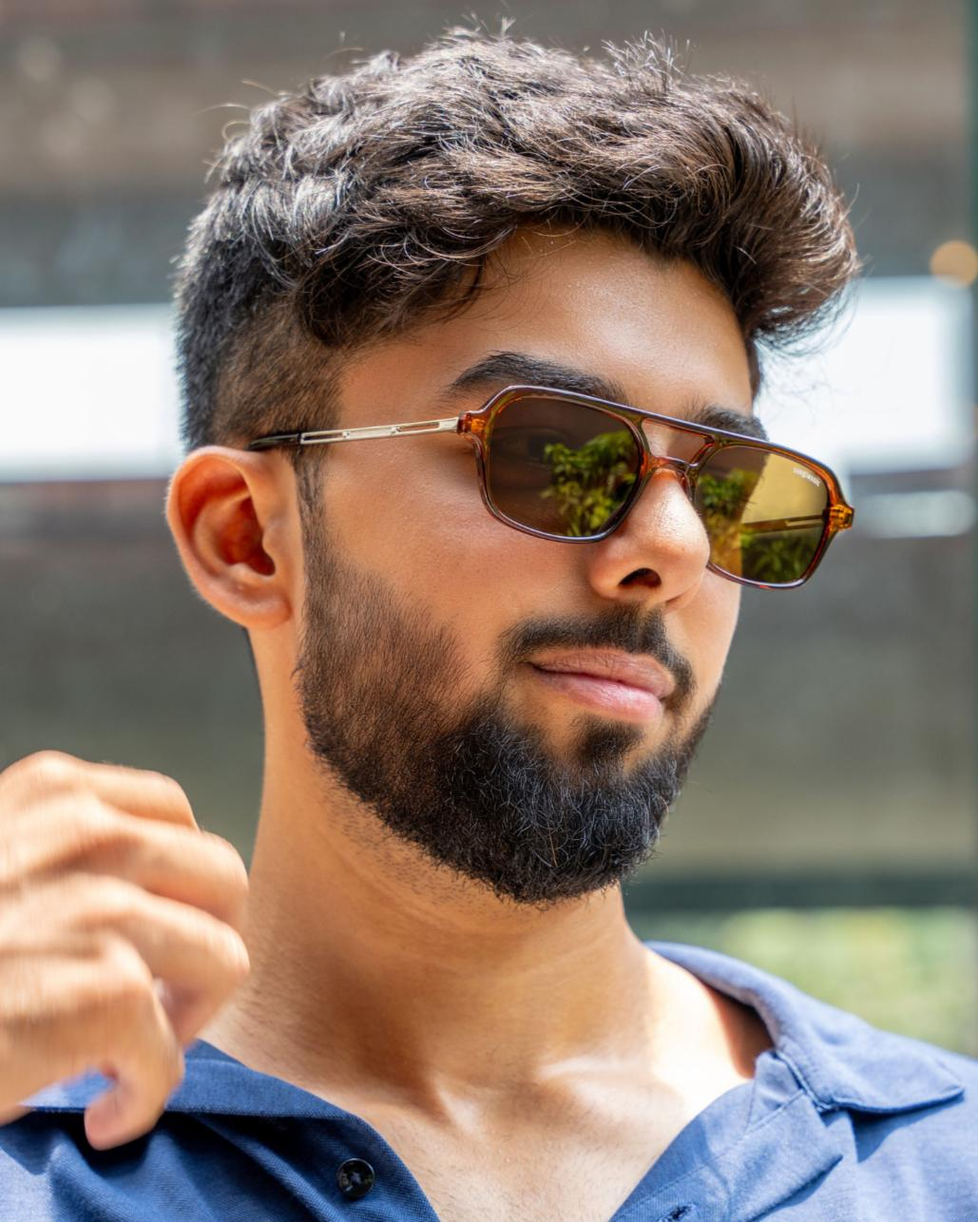sunglasses: (412, 368, 868, 605)
